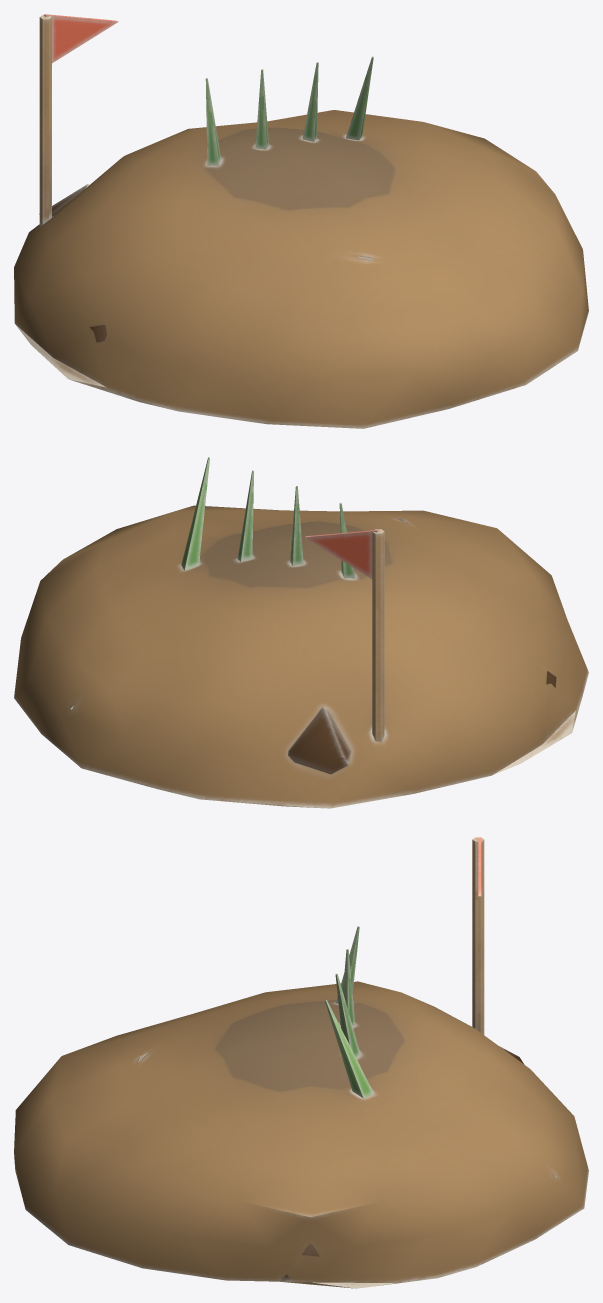
The model's file is node_dirt.glb.
3 renders of one model, top to bottom at view 1: azimuth 30°, elevation 25°; view 2: azimuth 150°, elevation 25°; view 3: azimuth 270°, elevation 25°, orthographic. The views are drawn at different scales.
Parts seen in each view (by area): view 1: SM_NodeDirt; view 2: SM_NodeDirt; view 3: SM_NodeDirt.
Part boxes in pixels (x1,y1,x2,y2): SM_NodeDirt: [14, 14, 588, 428]; SM_NodeDirt: [14, 457, 588, 808]; SM_NodeDirt: [14, 837, 588, 1288].
Size of the model in its own units: 1.49 by 0.7834 by 1.54.
Materials: 1 (1 with a texture image).
